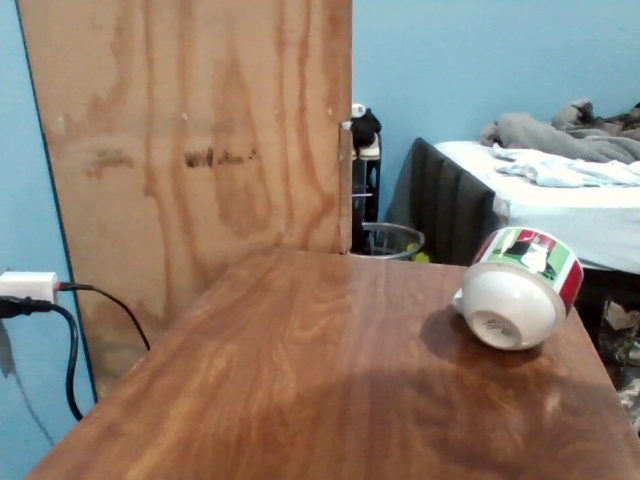taza: (451, 264, 564, 350)
